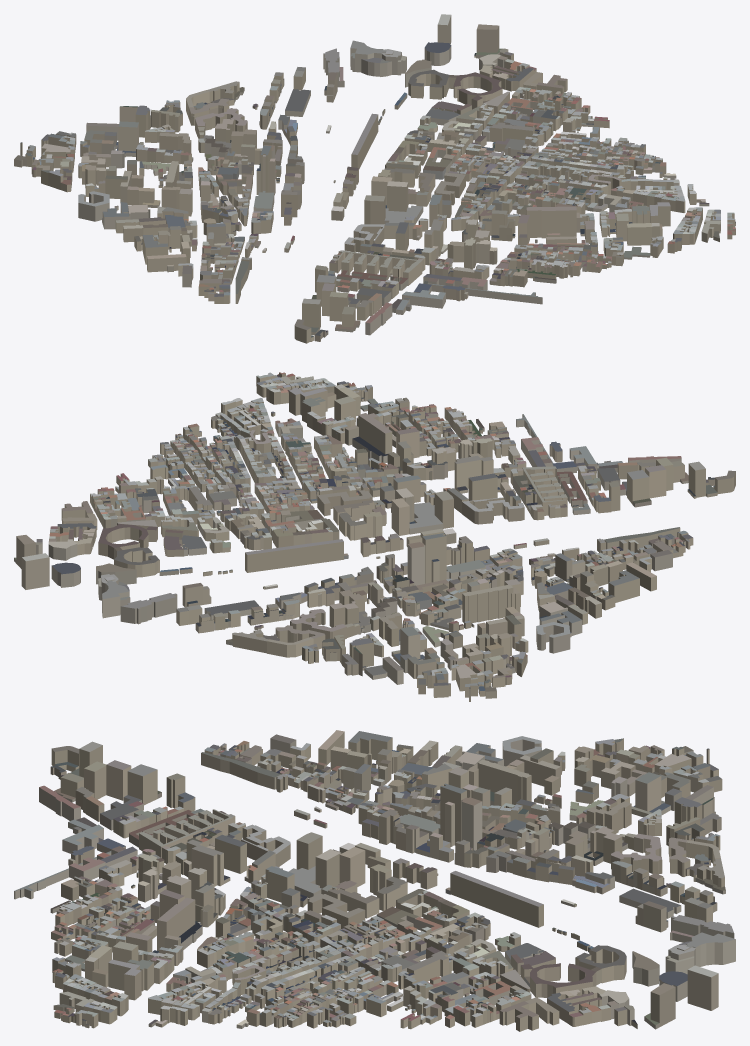
The picture shows the model from 3 angles, top to bottom: view 1: azimuth 30°, elevation 25°; view 2: azimuth 150°, elevation 25°; view 3: azimuth 270°, elevation 25°; orthographic projection. The views are drawn at different scales.
Visible parts, largest first — view 1: tuile; view 2: tuile; view 3: tuile.
Part boxes in pixels (x1,y1,x2,y2): tuile: (14,14,735,343); tuile: (14,372,735,701); tuile: (14,730,735,1031).
Size of the model in its own units: 1053 by 101 by 1096.
